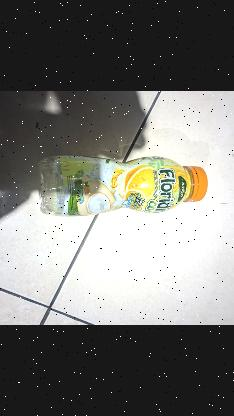Plastic Bottle: (38, 156, 208, 216)
